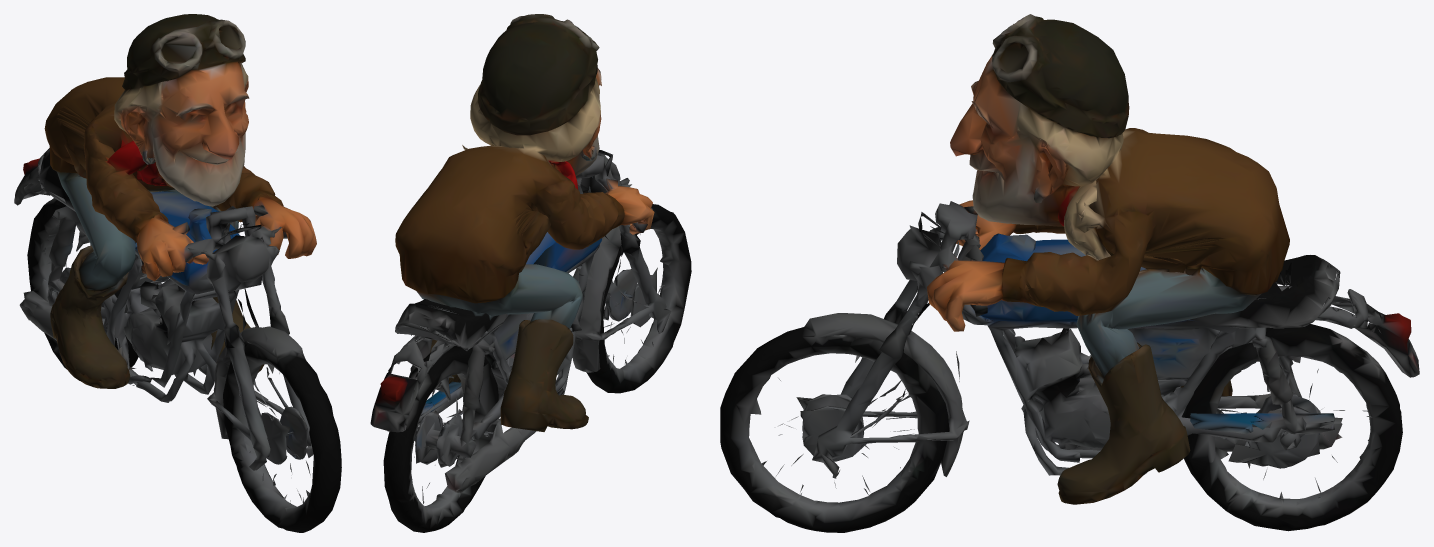
The model's file is rider_karlo.glb.
3 renders of one model, left to right at view 1: azimuth 30°, elevation 25°; view 2: azimuth 150°, elevation 25°; view 3: azimuth 270°, elevation 25°, orthographic. The views are drawn at different scales.
Visible parts, largest first — view 1: rider_karlo; view 2: rider_karlo; view 3: rider_karlo.
Boxes of the visible parts, left/top/right/bottom form: rider_karlo: left=14, top=14, right=341, bottom=532; rider_karlo: left=370, top=14, right=691, bottom=532; rider_karlo: left=720, top=14, right=1419, bottom=532.
Size of the model in its own units: 0.6228 by 1.5 by 1.89.
